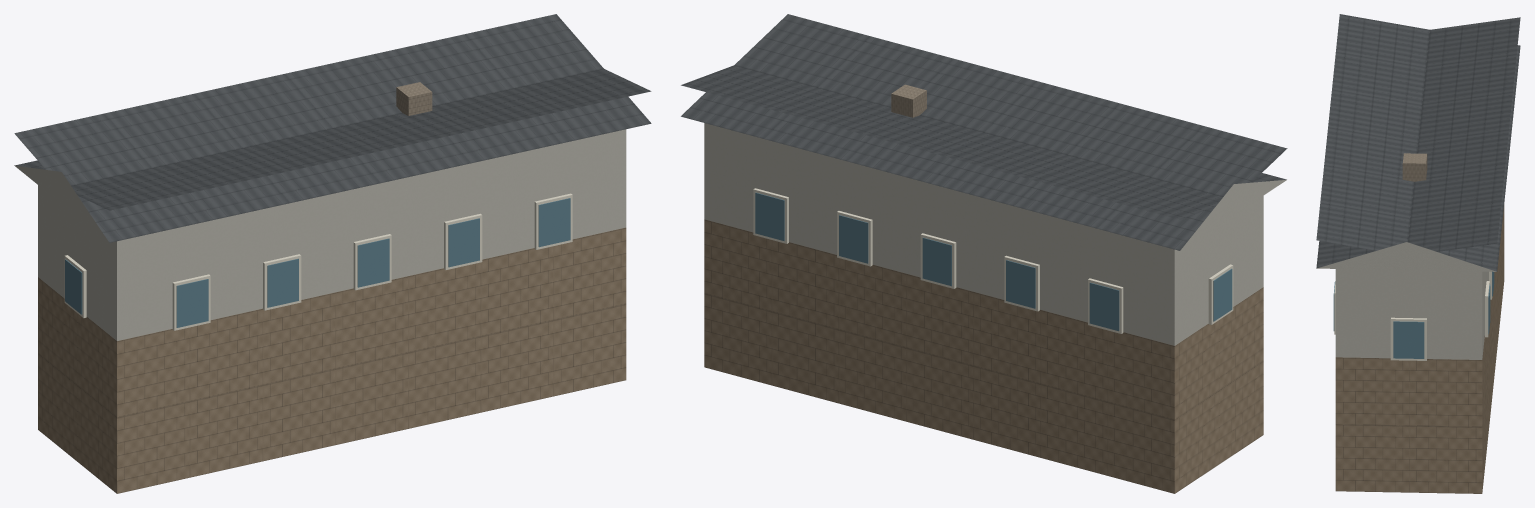
Rendered from core_0012.gltf.
The picture shows the model from 3 angles, left to right: view 1: azimuth 30°, elevation 25°; view 2: azimuth 150°, elevation 25°; view 3: azimuth 270°, elevation 25°; orthographic projection. The views are drawn at different scales.
Parts seen in each view (by area): view 1: core_0012; view 2: core_0012; view 3: core_0012.
Part boxes in pixels (x1,y1,x2,y2): core_0012: [14, 14, 651, 493]; core_0012: [681, 14, 1287, 493]; core_0012: [1316, 14, 1520, 493].
Bounding box in the file's own units: 17.42 × 9.25 × 6.55.
6 materials, 6 textured.
